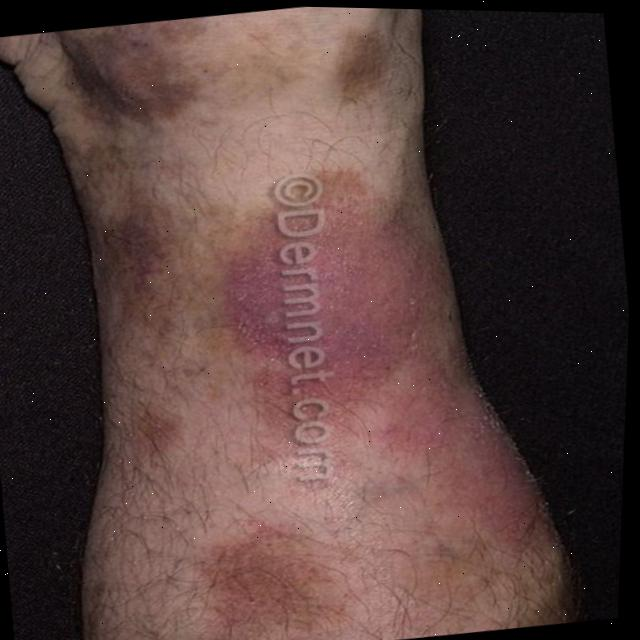Eczema: (225, 165, 453, 429)
